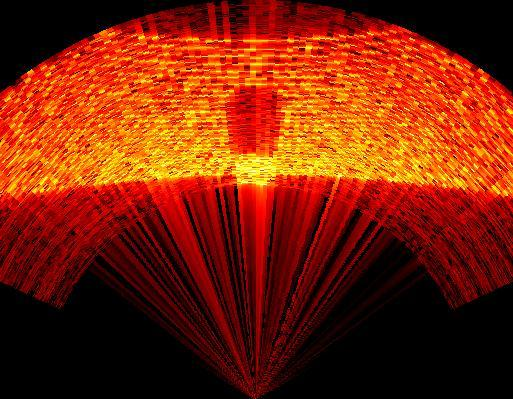box_crate: (222, 81, 288, 187)
